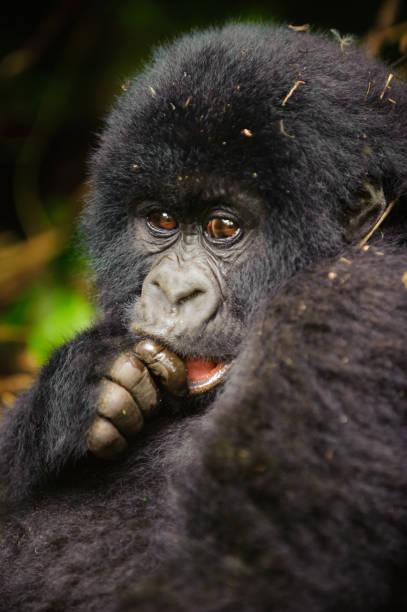goriile_montagne: (5, 16, 406, 612)
